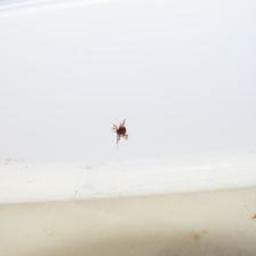Rhipicephalus sanguineus: (112, 121, 129, 145)
